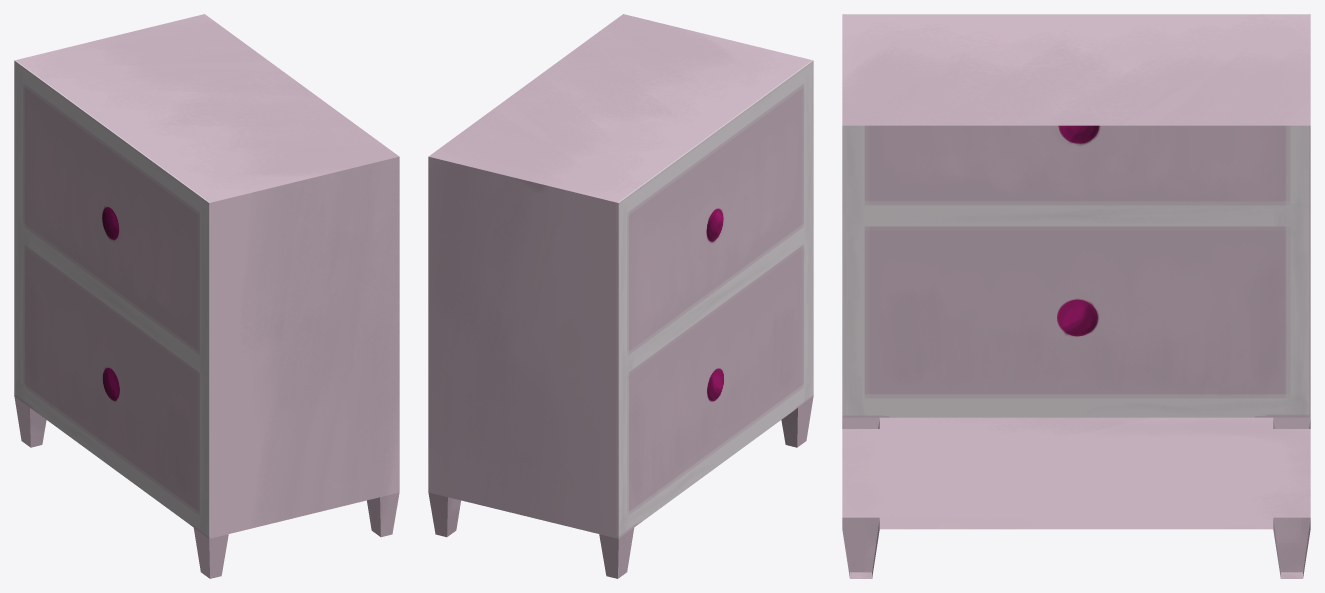
File: Assets_Commode.fbx
3 views of the same model, side by side, from view 1: azimuth 30°, elevation 25°; view 2: azimuth 150°, elevation 25°; view 3: azimuth 270°, elevation 25° (orthographic). The views are drawn at different scales.
Visible parts, largest first — view 1: Commode; view 2: Commode; view 3: Commode.
Part boxes in pixels (x1,y1,x2,y2): Commode: [14, 14, 399, 578]; Commode: [428, 14, 813, 578]; Commode: [842, 14, 1310, 578].
Size of the model in its own units: 45.92 by 87.41 by 81.43.
Materials: 1 (1 with a texture image).
